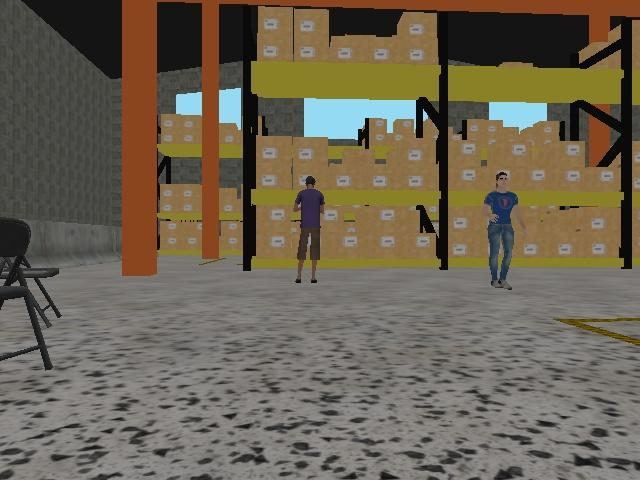person: (481, 170, 530, 291), (291, 174, 326, 285)
